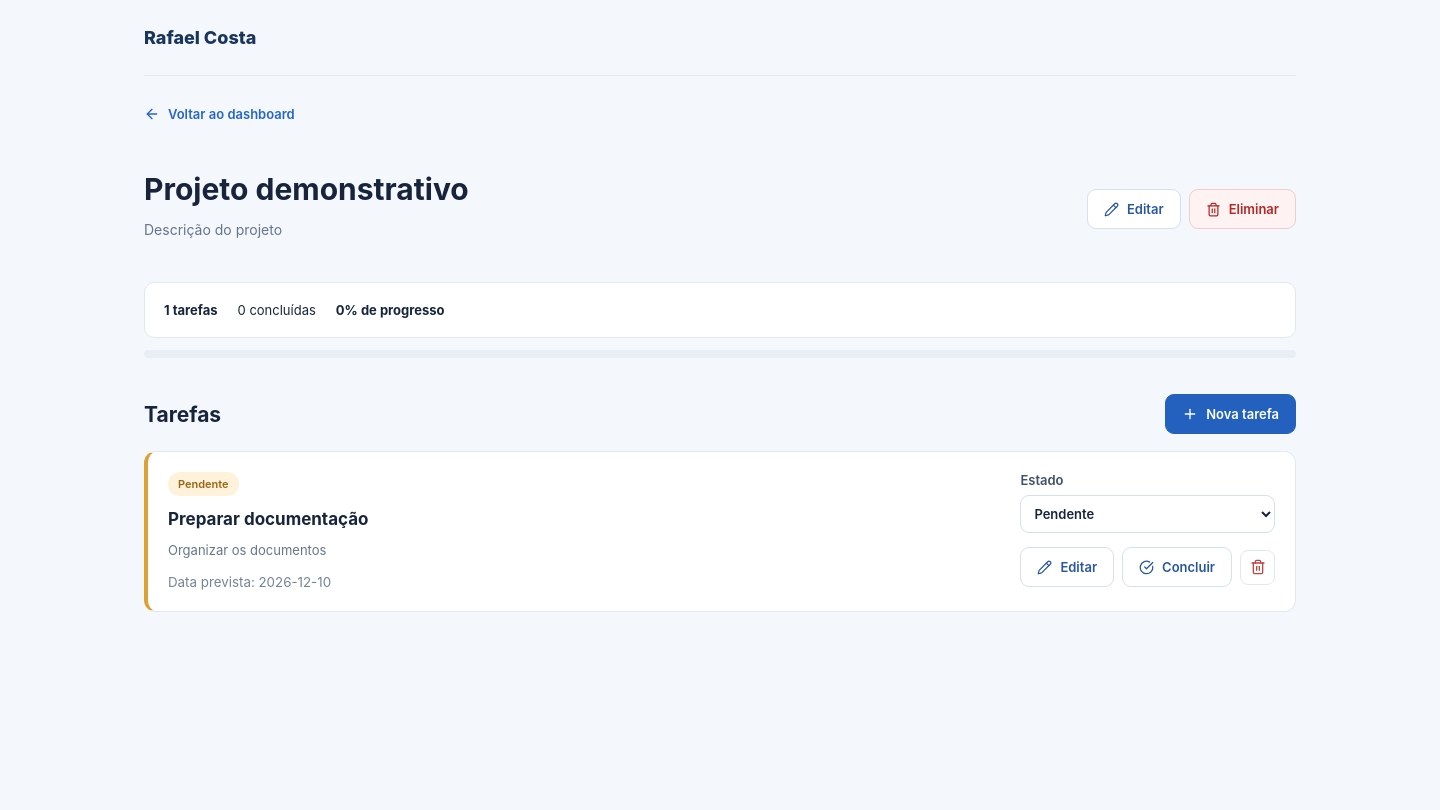
Test case: Página de detalhes do projeto › edita as informações do projeto
Expected: the heading "Preparar documentação" is shown, [168,509,368,529]
Click the button "Editar" in the row of "Projeto demonstrativo" at x=1134, y=209, box [1087,189,1181,229]
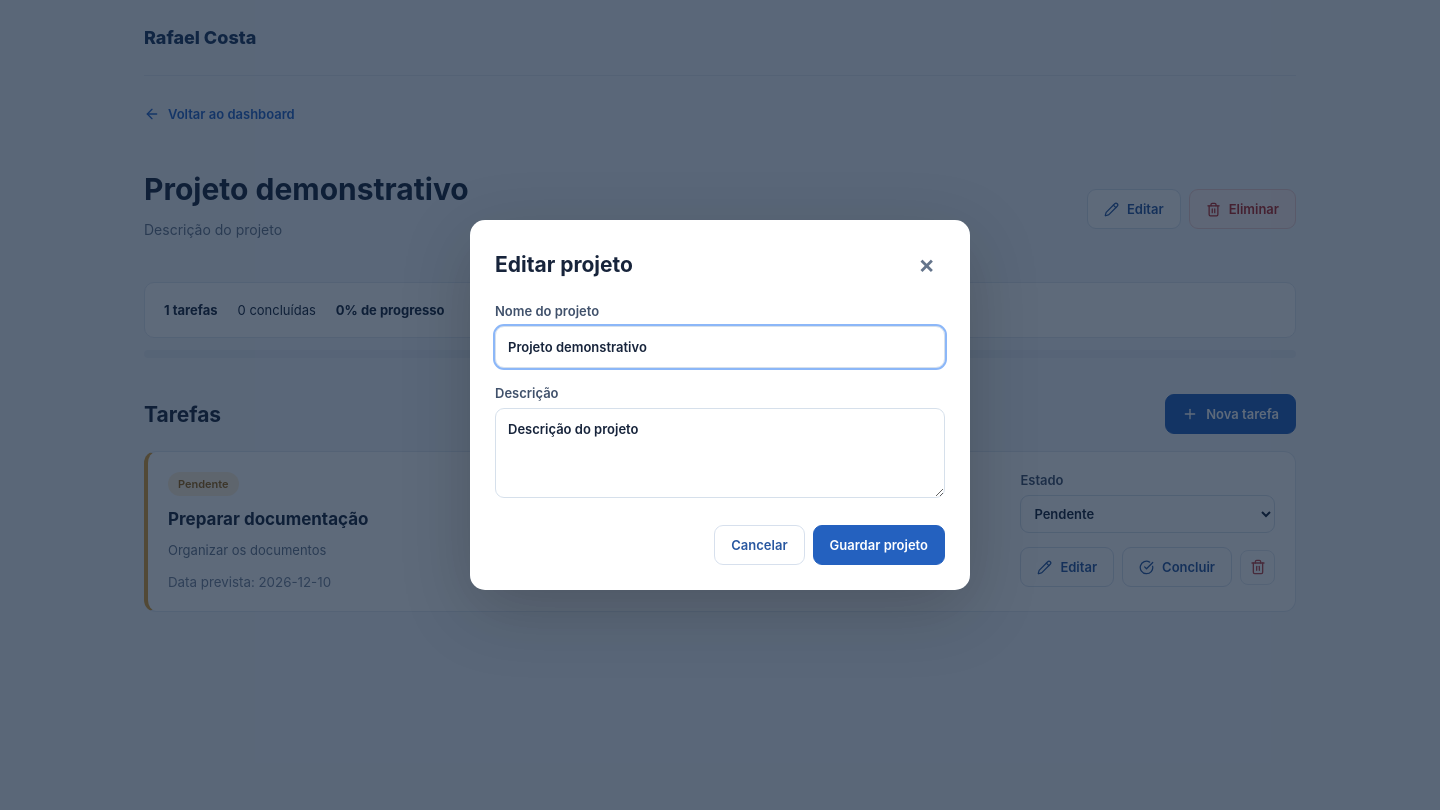
Result: the dialog "Editar projeto" is shown at [470,220,970,590]
Replace the text in the field labelled "Nome do projeto" with "Projeto atualizado" at x=720, y=347, box [495,326,945,368]
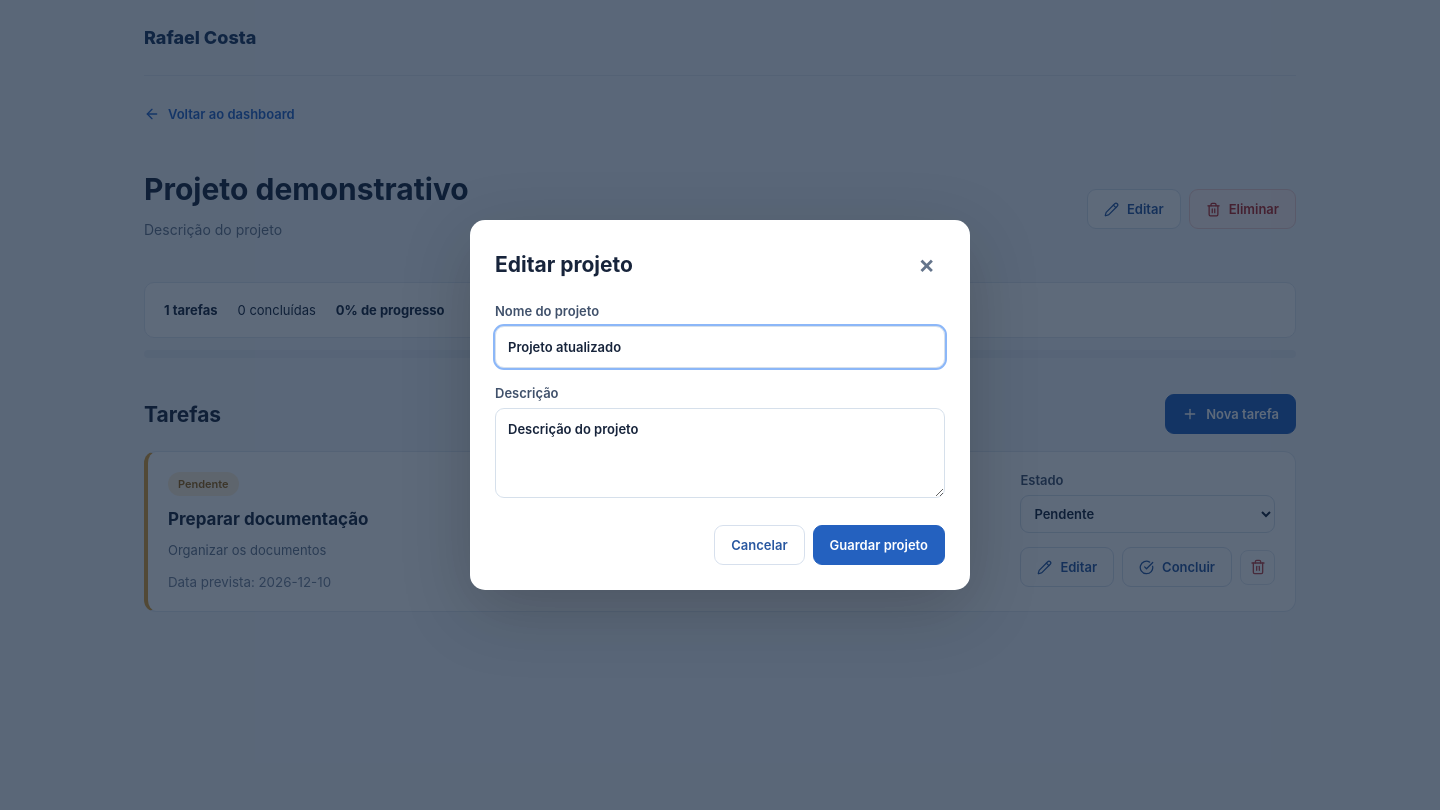
Click the button "Guardar projeto" at x=879, y=545, box [813,525,945,565]
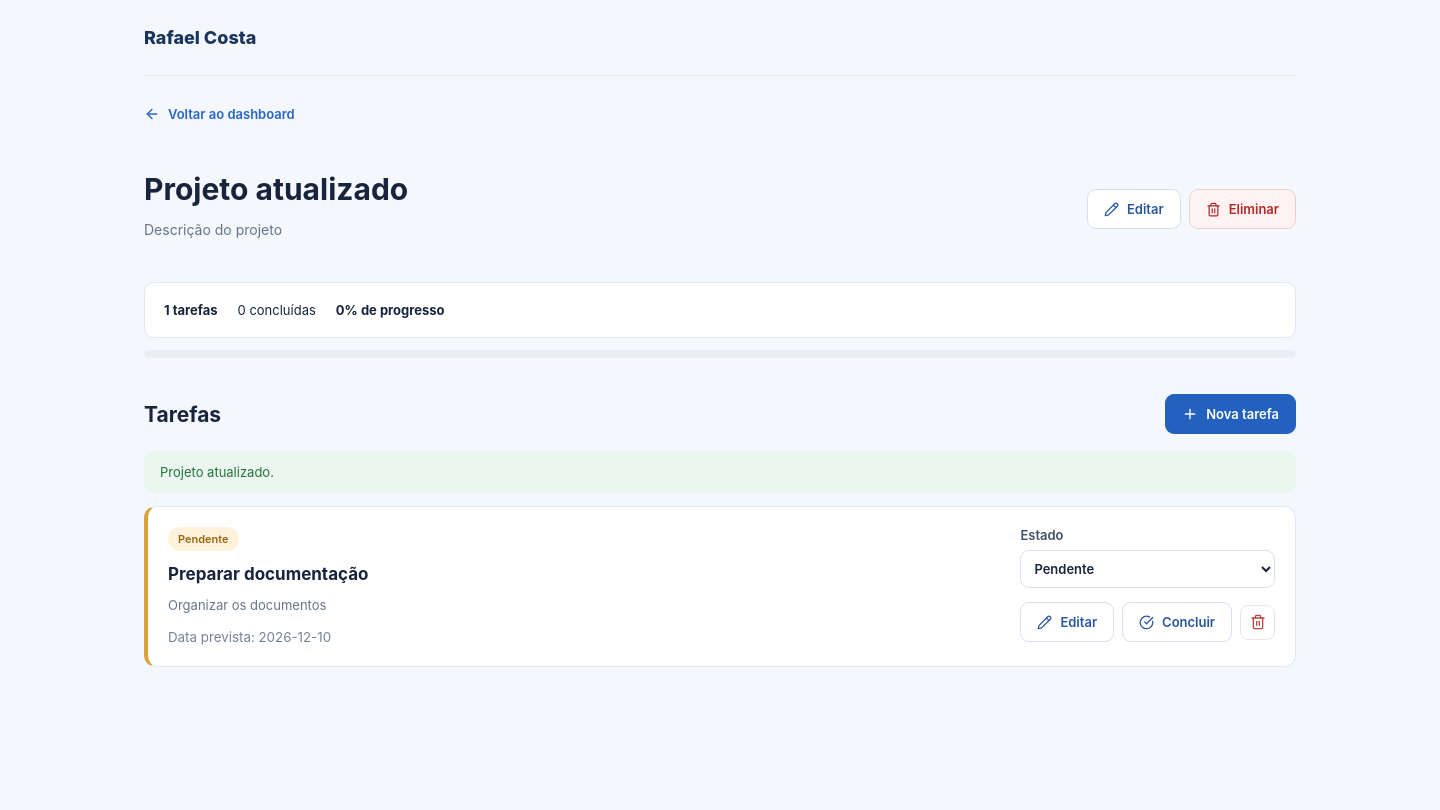
Result: the heading "Projeto atualizado" is shown at [144,171,408,207]
